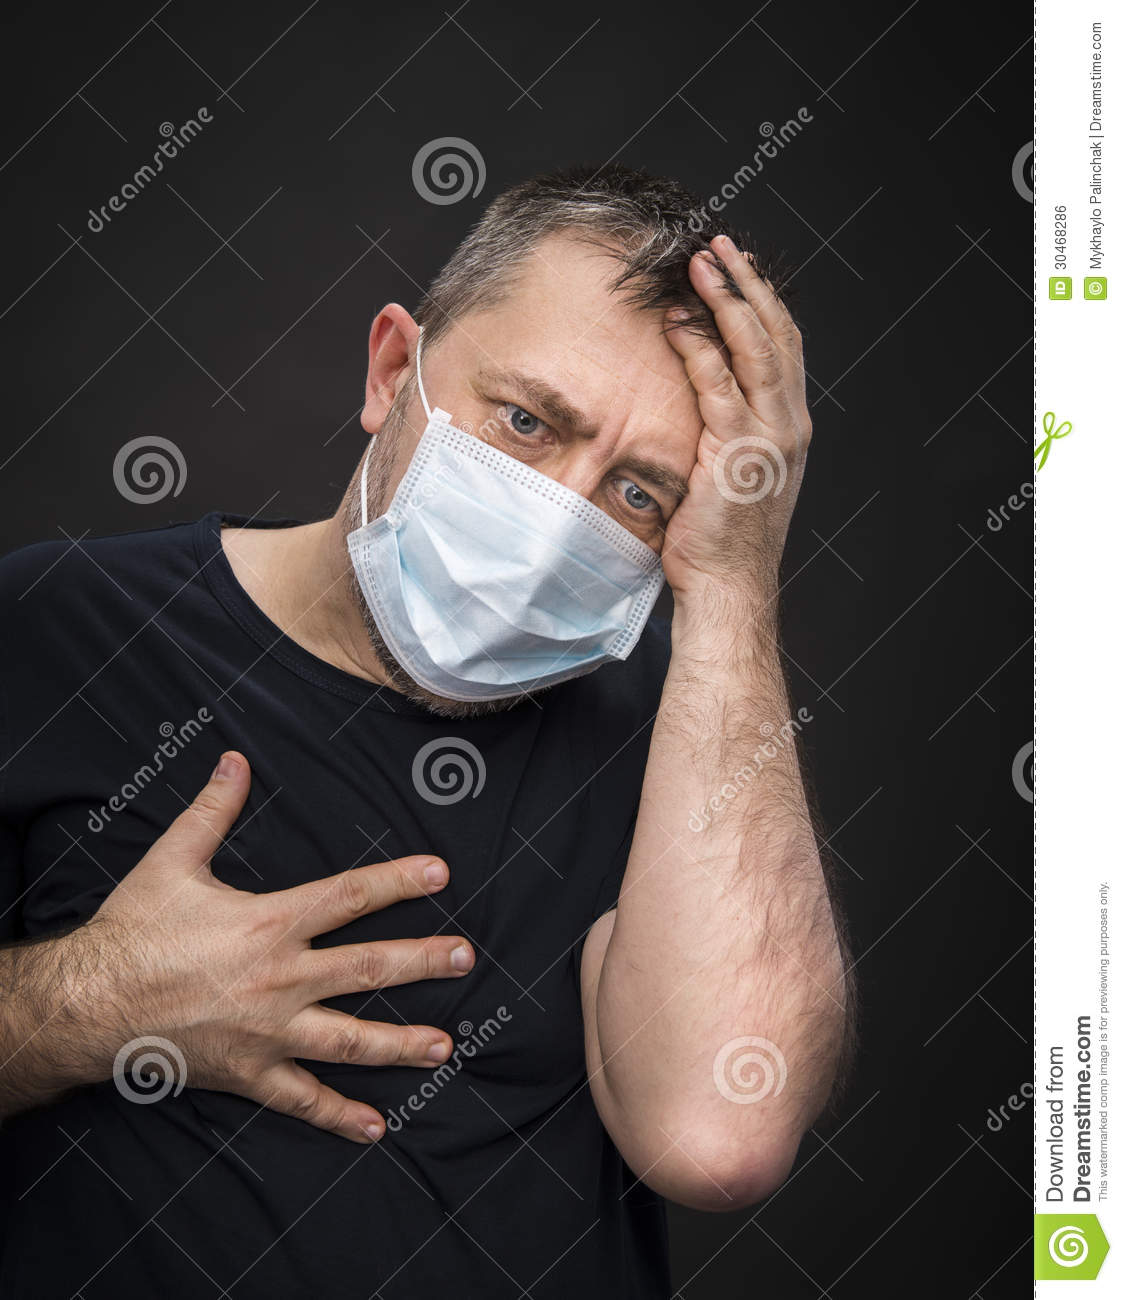mask: (361, 428, 676, 707)
